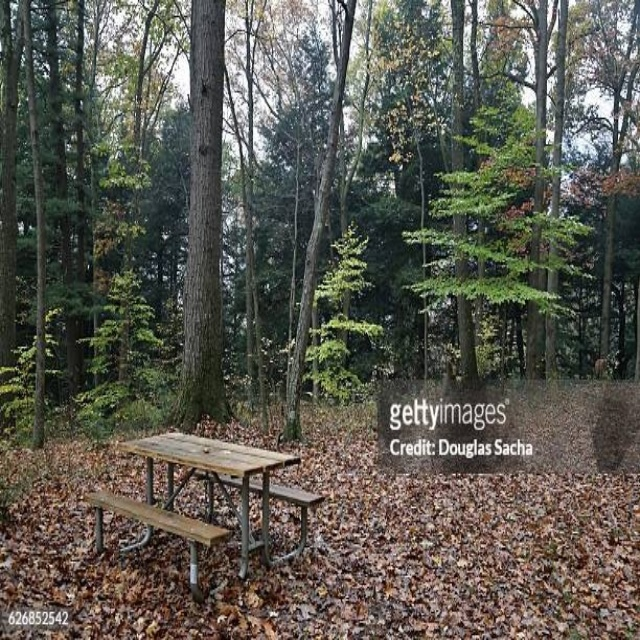obstacle: (90, 431, 299, 577)
